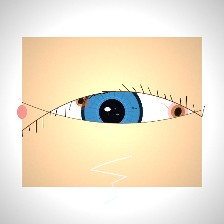foreign_body_visible: (139, 124, 159, 140)
